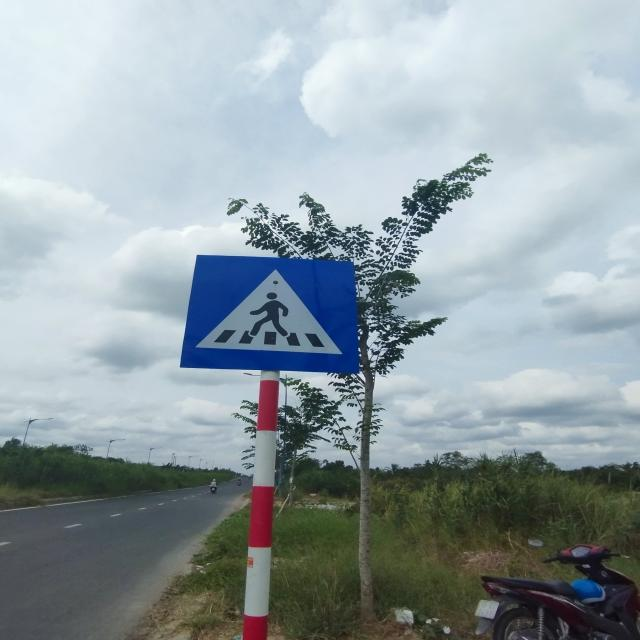Giao_Nhau_Duong_Uu_Tien: (180, 254, 359, 374)
